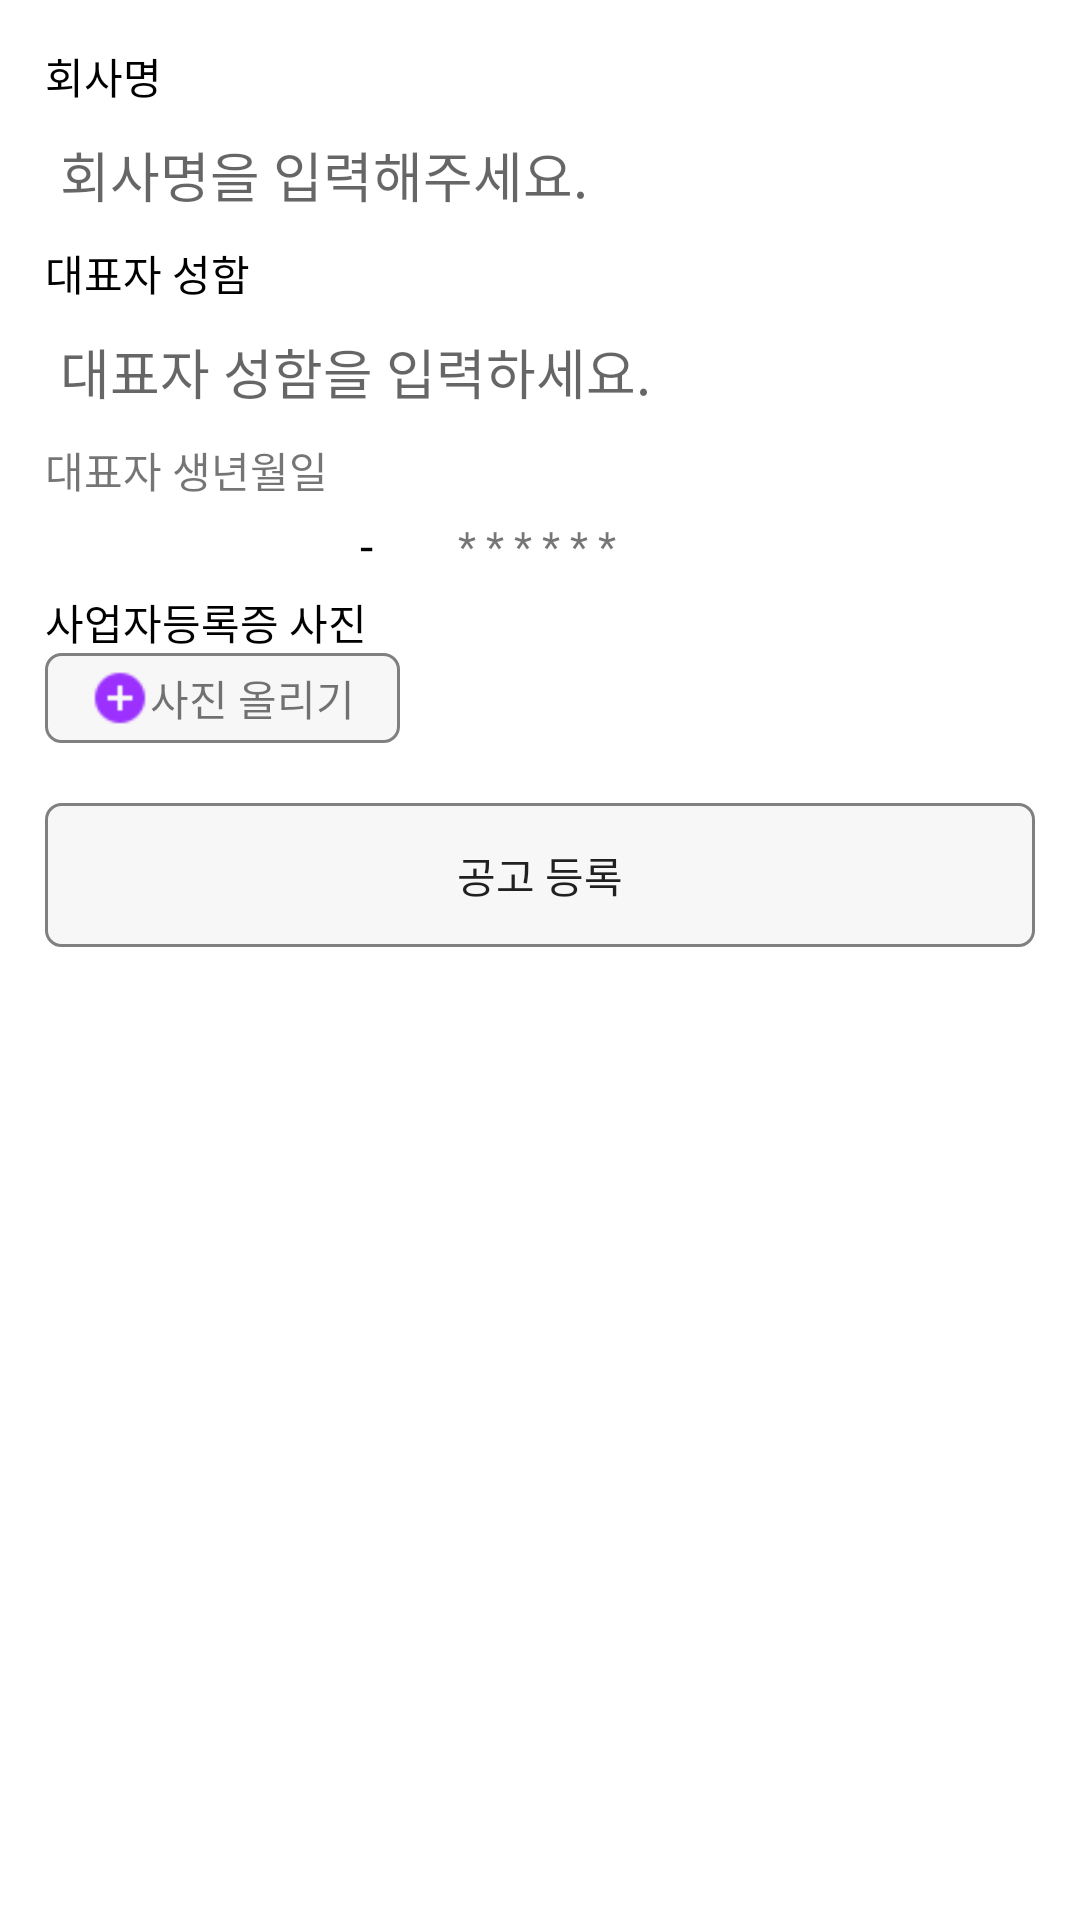

Locate icon controls on the screen. Image size 1080px×1920px, boxes as (x1, y1, x2, y2).
plus: (94, 672, 146, 724)
